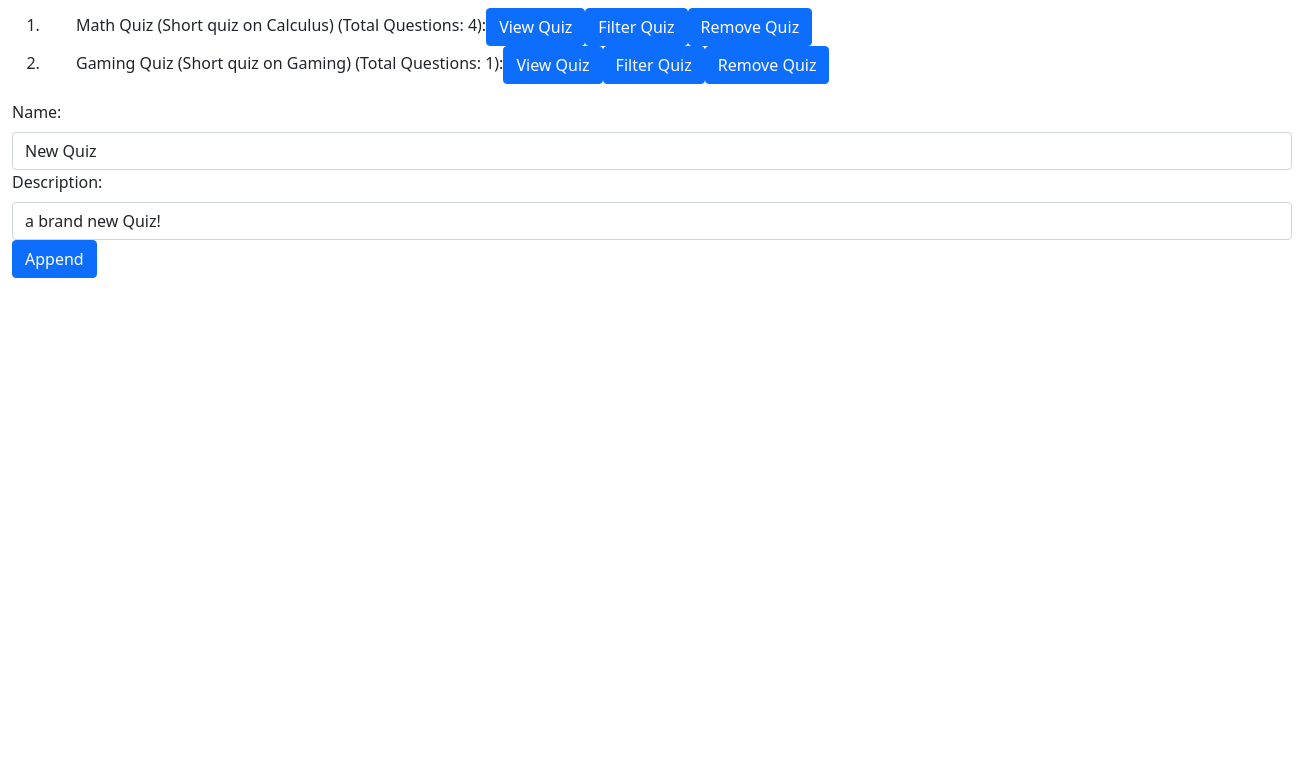
Scenario: Questions Tests › You can add to the question array.
Step 1. Click the button with test id "view-quiz-button" in the row of "Short quiz on Calculus" → {"x": 536, "y": 27}, box [486,8,585,46]
(page scrolled)
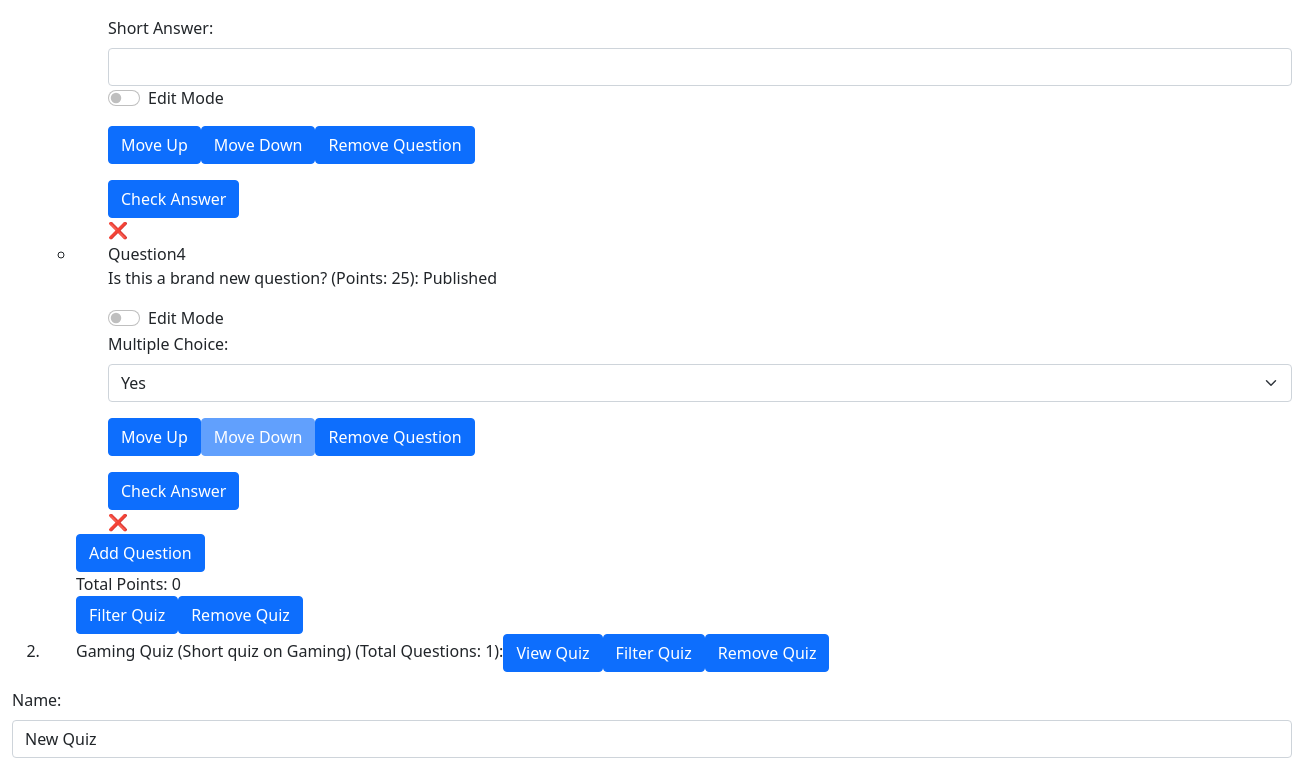
Step 2. Click the button with test id "add-question-button" → {"x": 140, "y": 553}, box [76,534,205,572]
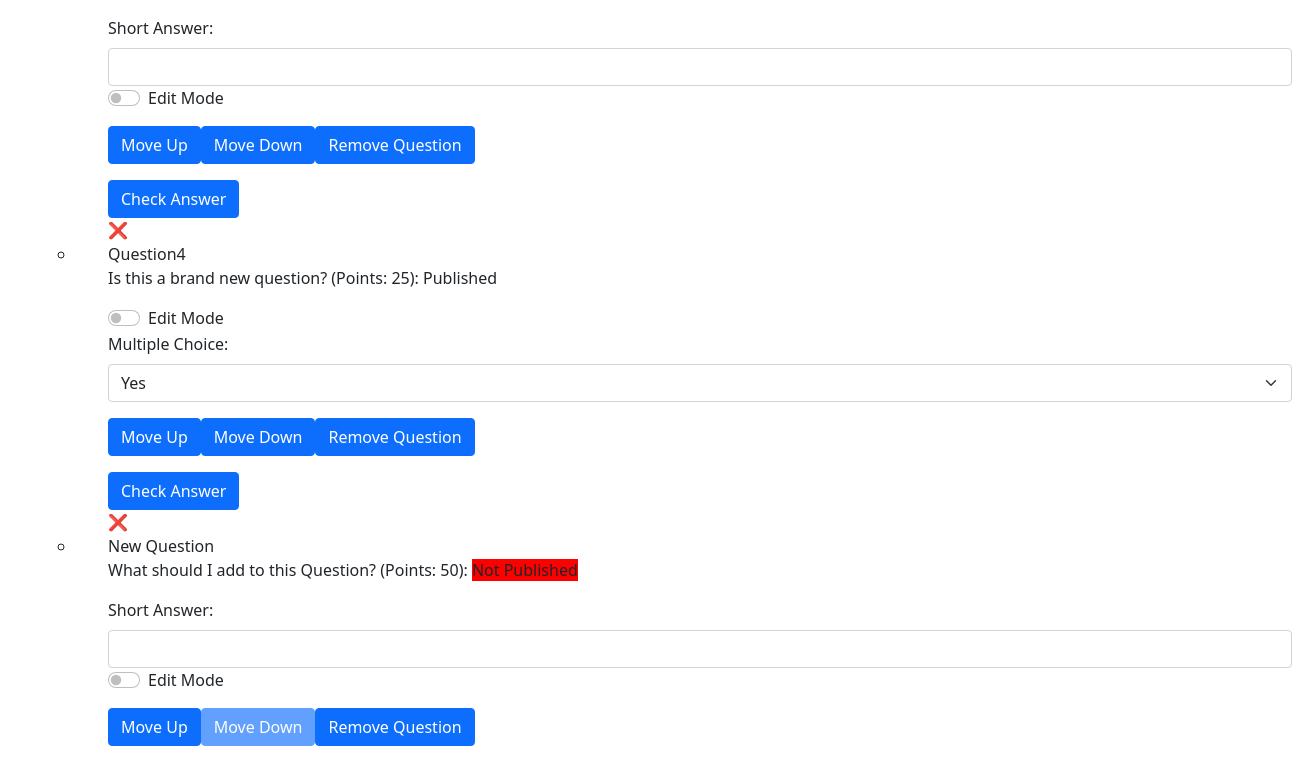
Check: the text "New Question" is shown, box [108,535,214,557]
